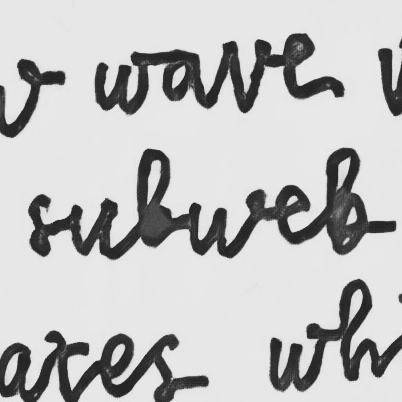b: (323, 144, 370, 258), (133, 145, 176, 250)
e: (272, 183, 314, 246)
s: (26, 192, 59, 259)
u: (66, 195, 122, 261)
w: (185, 186, 267, 260)
